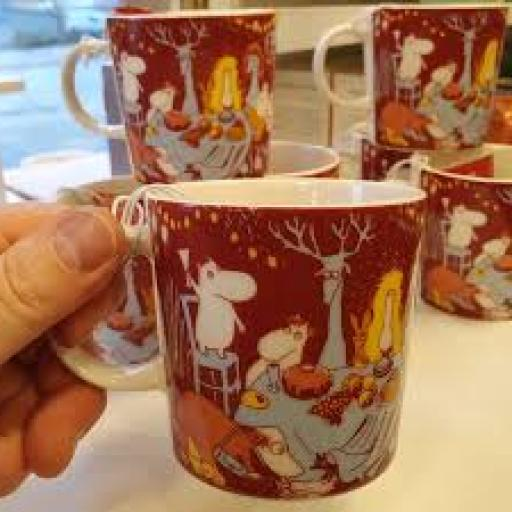red mug: (120, 180, 424, 498), (61, 10, 274, 182), (314, 5, 506, 150), (393, 146, 511, 318)
